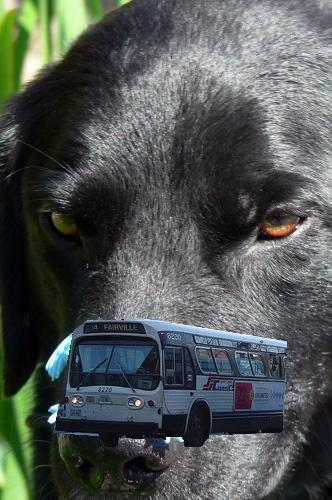tampered: (54, 320, 287, 447)
